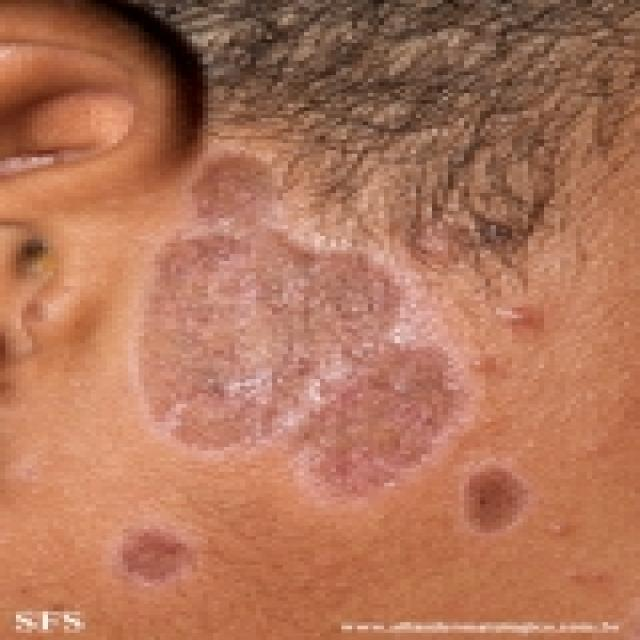lupus: (102, 147, 539, 596)
